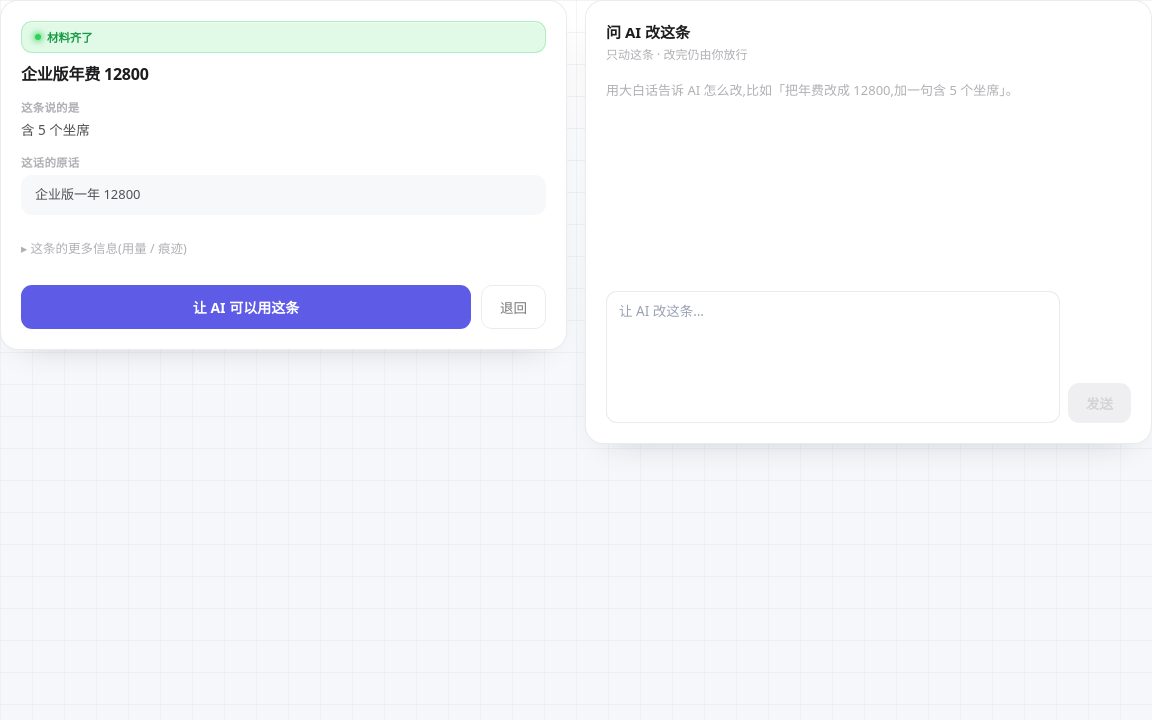
Test: ReviewChat › 退回失败 → 不关面板,显示大白话错误
Click the button "退回".
click(514, 307)  # box 481,285 -> 546,329
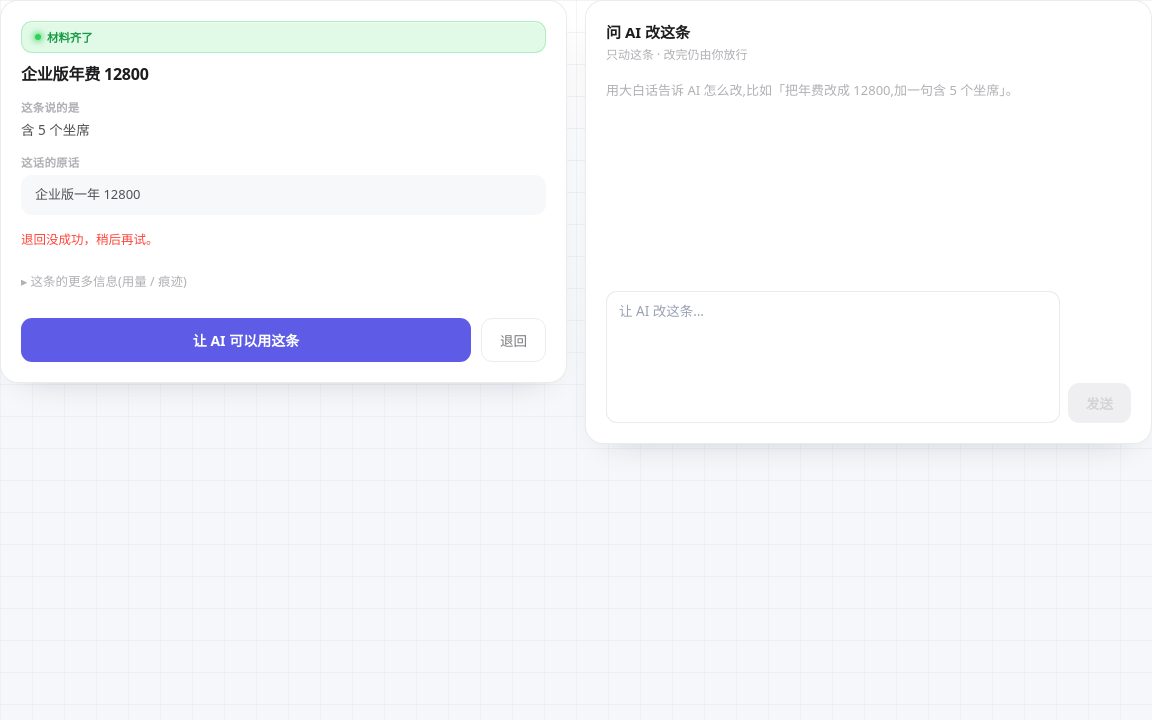
Check: the text "退回没成功，稍后再试。" is shown, box 21,231 -> 158,248
